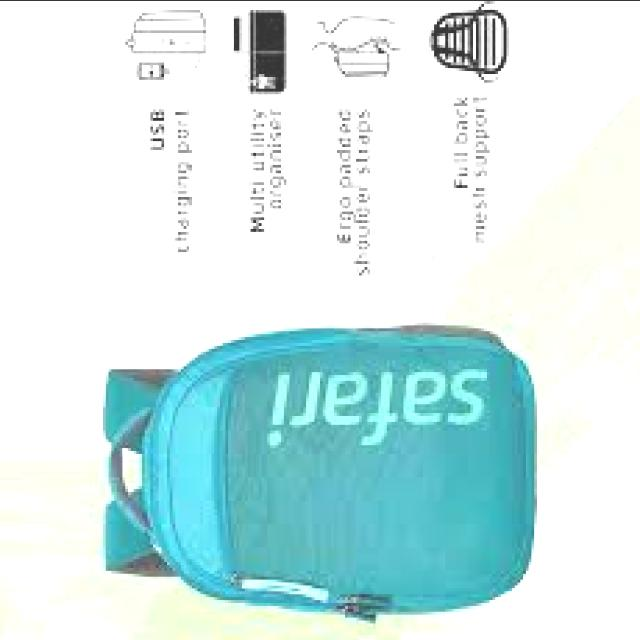backpack: (101, 326, 538, 627)
